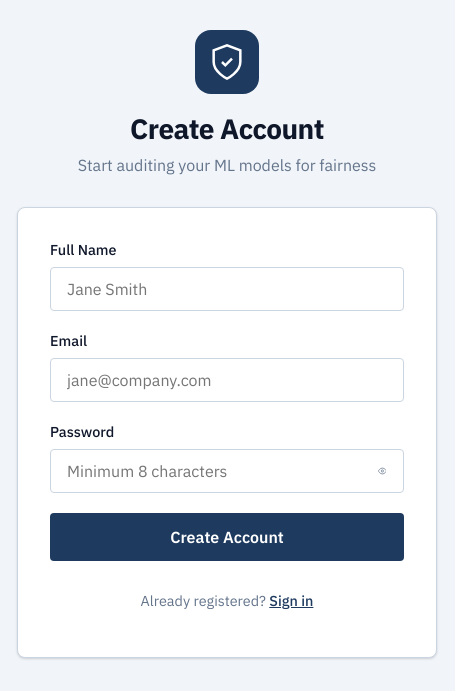
Auth Flow Integration › register shows error on failed registration
This screenshot has width=455, height=691.
Step 1. Type "Test User" into the field labelled "Full Name" → point(227, 289), box [50,267,404,311]
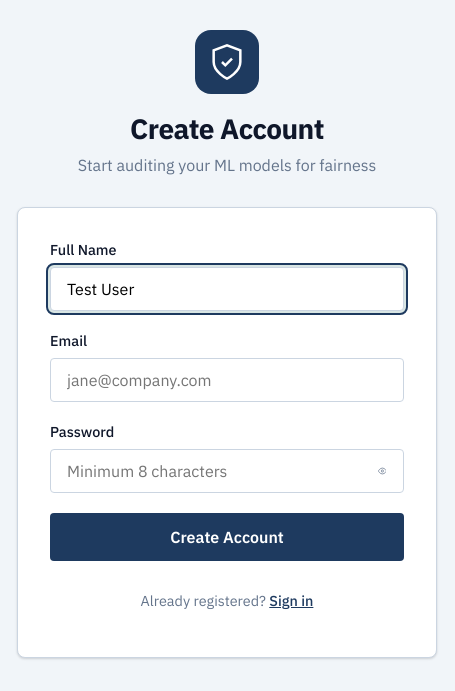
Step 2. Type "existing@example.com" into the field labelled "Email" → point(227, 380), box [50,358,404,402]
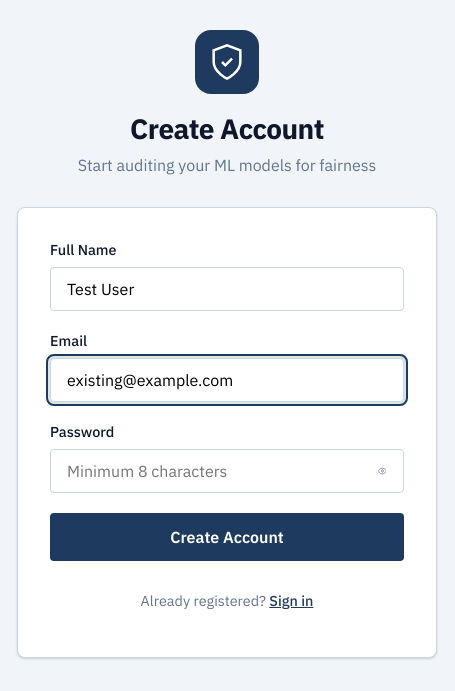
Step 3. Type "password123" into the password field labelled "Password" → point(227, 471), box [50,449,404,493]
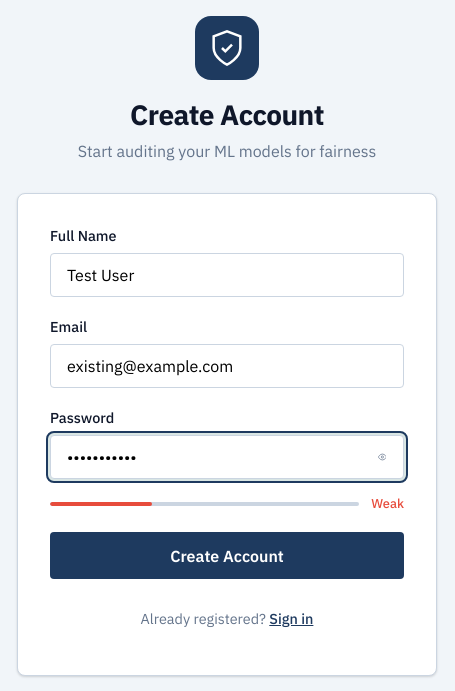
Step 4. Click the button "Create Account" → point(227, 556), box [50,532,404,579]
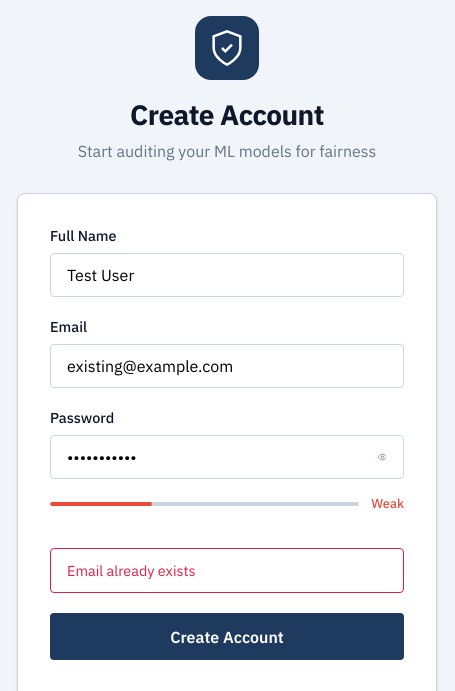
Expected: the text "Email already exists" is shown, [50,548,404,593]
